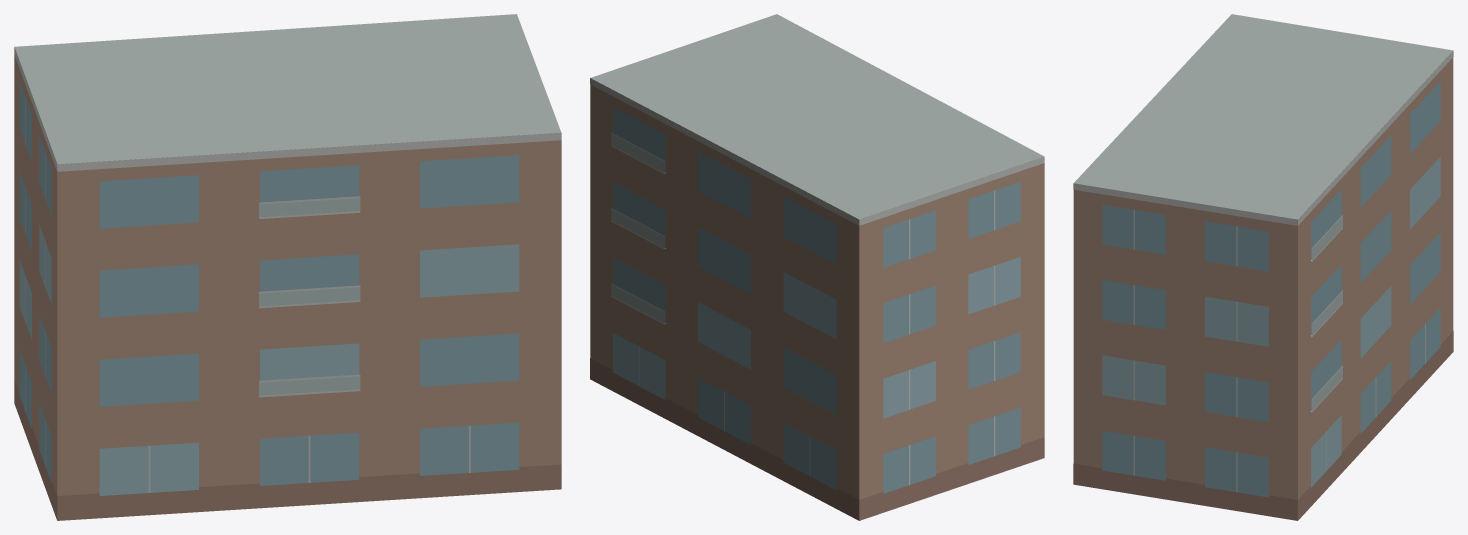
Rendered from survey-upis-32877235.glb.
3 views of the same model, side by side, from view 1: azimuth 30°, elevation 25°; view 2: azimuth 150°, elevation 25°; view 3: azimuth 270°, elevation 25° (orthographic). The views are drawn at different scales.
Parts seen in each view (by area): view 1: survey-upis-32877235.tmp; view 2: survey-upis-32877235.tmp; view 3: survey-upis-32877235.tmp.
Boxes of the visible parts, x1,y1,x2,y2 form: survey-upis-32877235.tmp: (14,14,561,520); survey-upis-32877235.tmp: (590,14,1044,520); survey-upis-32877235.tmp: (1073,14,1453,520).
Bounding box in the file's own units: 16.99 × 11.6 × 13.27.
